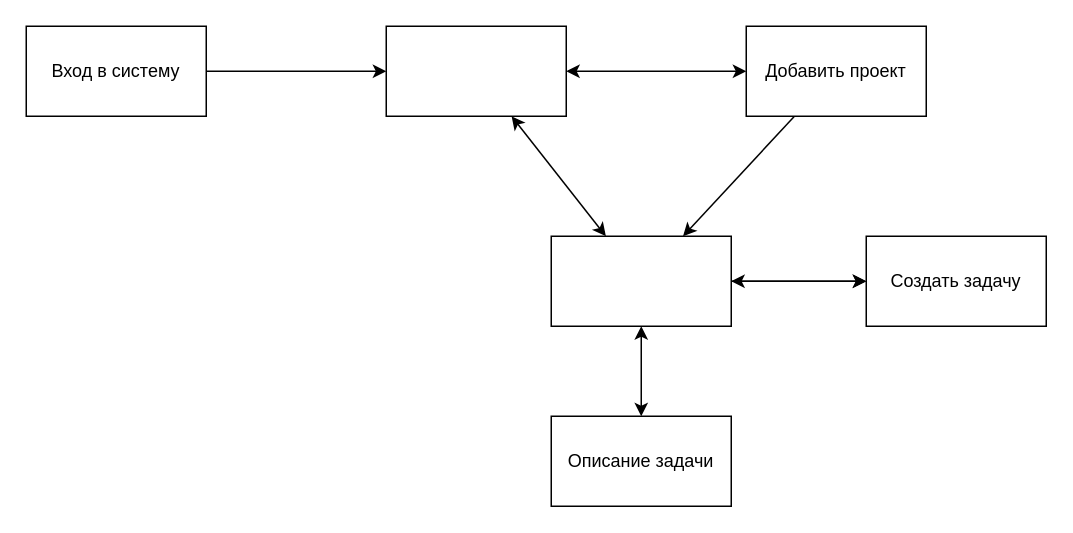
Some shapes in this 1073 by 533 pixel diagram are drawn without their labels. Here are the shapes that lost their labels. From the top down, the centre of each, then its label:
At [475,70]: "Список досок".
At [640,280]: "Доска проекта".
